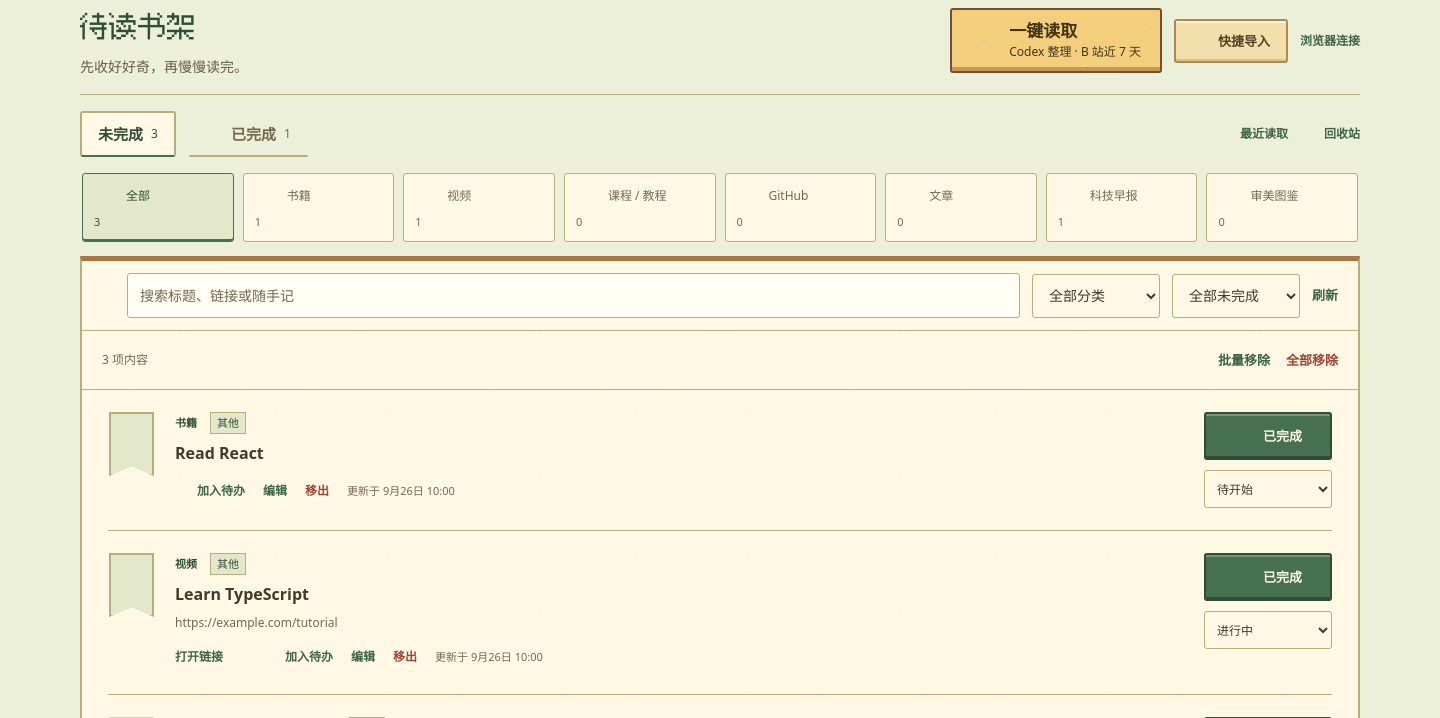
Test: reading shelf bulk removal › removes all shelf items, including reports and completed items hidden by a filter
The image size is (1440, 718).
Click the button "视频 1": (479, 208) [403,173,555,242]
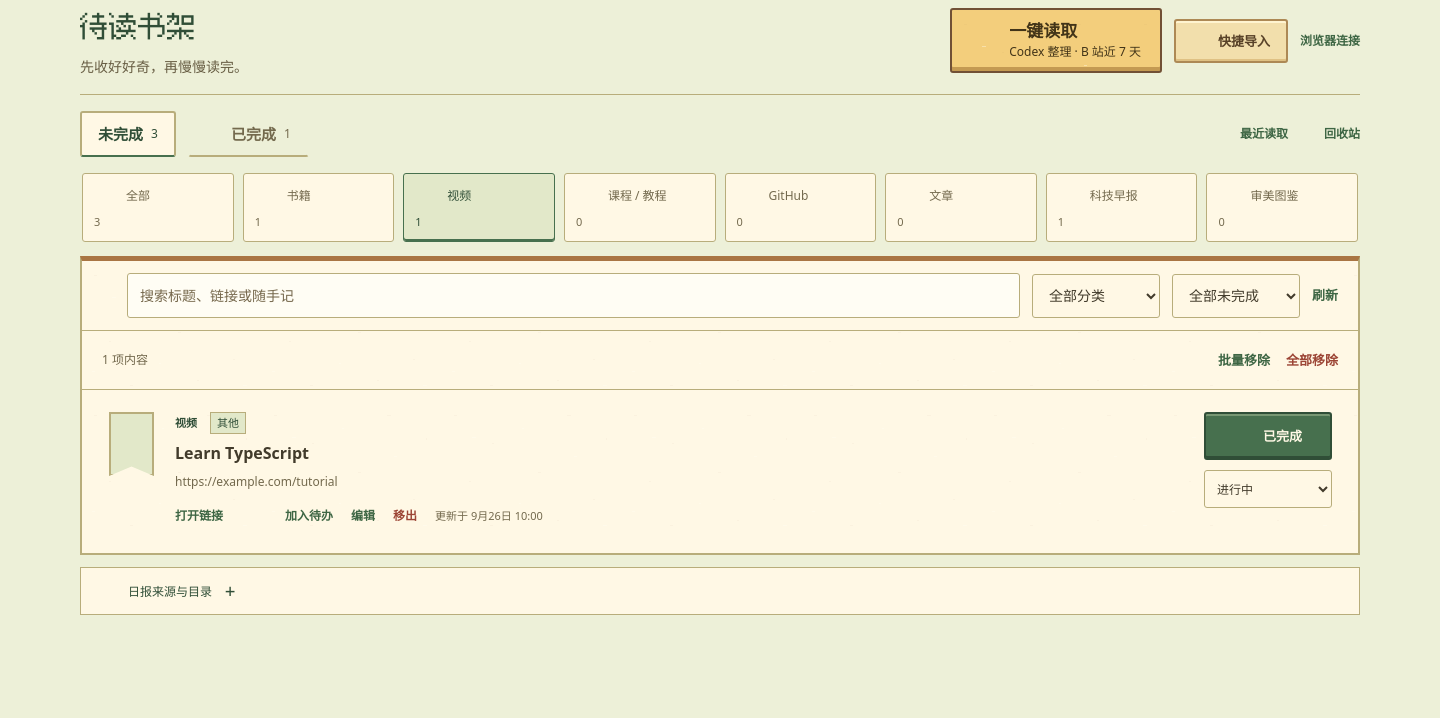
Now the number of elements with class "reading-row" is 1, box [108,390,1332,553]
Click the button "全部移除": (1312, 360) [1286,338,1338,382]
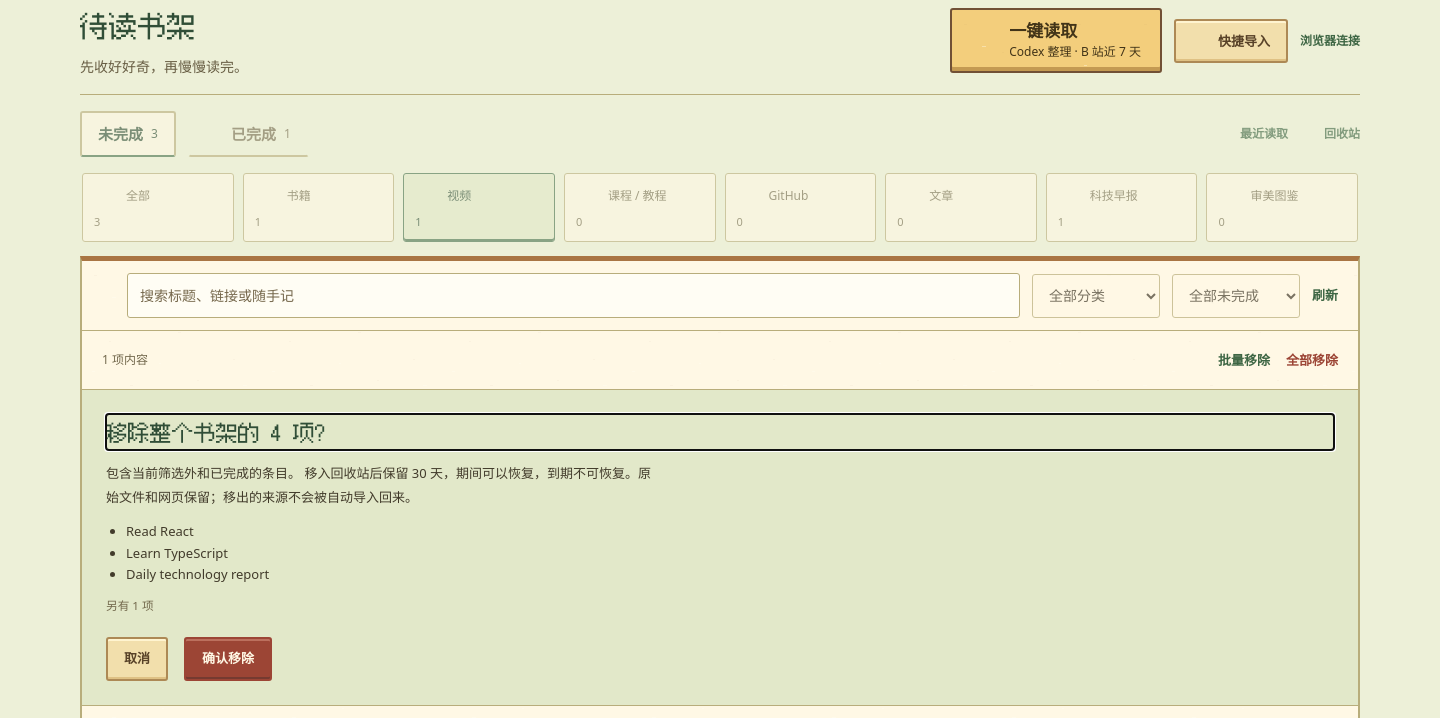
Click the button "确认移除": (228, 659) [184,637,272,681]
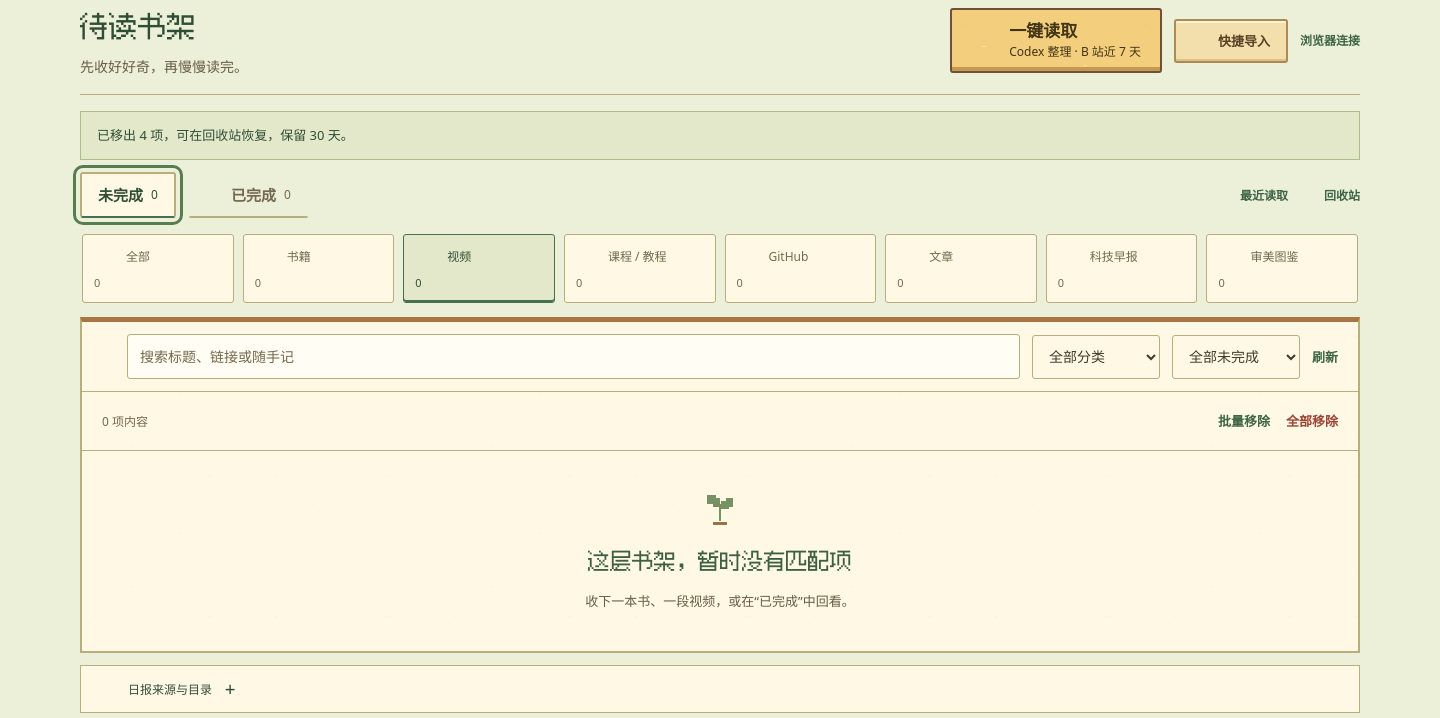
Now no elements with class "reading-row" are shown
